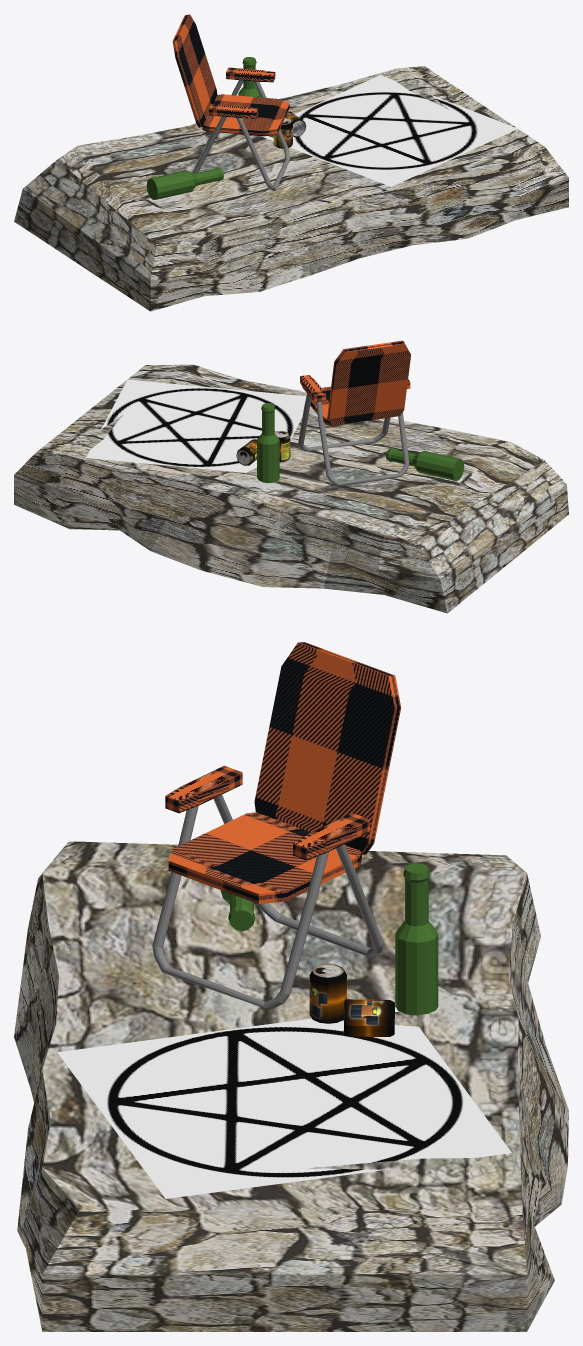
The model's file is shrineandsatansseat.fbx.
The picture shows the model from 3 angles, top to bottom: view 1: azimuth 30°, elevation 25°; view 2: azimuth 150°, elevation 25°; view 3: azimuth 270°, elevation 25°; orthographic projection. The views are drawn at different scales.
Parts seen in each view (by area): view 1: Cube, Cube.004, Cylinder.003, Cylinder; view 2: Cube, Cube.004, Cylinder, Cylinder.003, Cylinder.002, Cylinder.001; view 3: Cube, Cube.004, Cylinder, Cylinder.001, Cylinder.002, Cylinder.003.
Part boxes in pixels (bbox=[...]): Cube: bbox=[14, 66, 568, 311]; Cube.004: bbox=[172, 14, 289, 190]; Cylinder.003: bbox=[146, 167, 223, 199]; Cylinder: bbox=[238, 57, 260, 135]; Cube: bbox=[14, 364, 568, 613]; Cube.004: bbox=[298, 340, 410, 486]; Cylinder: bbox=[257, 403, 279, 483]; Cylinder.003: bbox=[386, 448, 464, 480]; Cylinder.002: bbox=[236, 439, 256, 465]; Cylinder.001: bbox=[274, 430, 290, 462]; Cube: bbox=[14, 841, 568, 1331]; Cube.004: bbox=[152, 642, 401, 1008]; Cylinder: bbox=[395, 863, 438, 1014]; Cylinder.001: bbox=[309, 964, 346, 1023]; Cylinder.002: bbox=[343, 999, 394, 1036]; Cylinder.003: bbox=[220, 890, 255, 931].
Size of the model in its own units: 1041 by 484 by 604.
Materials: 6 (4 with a texture image).
